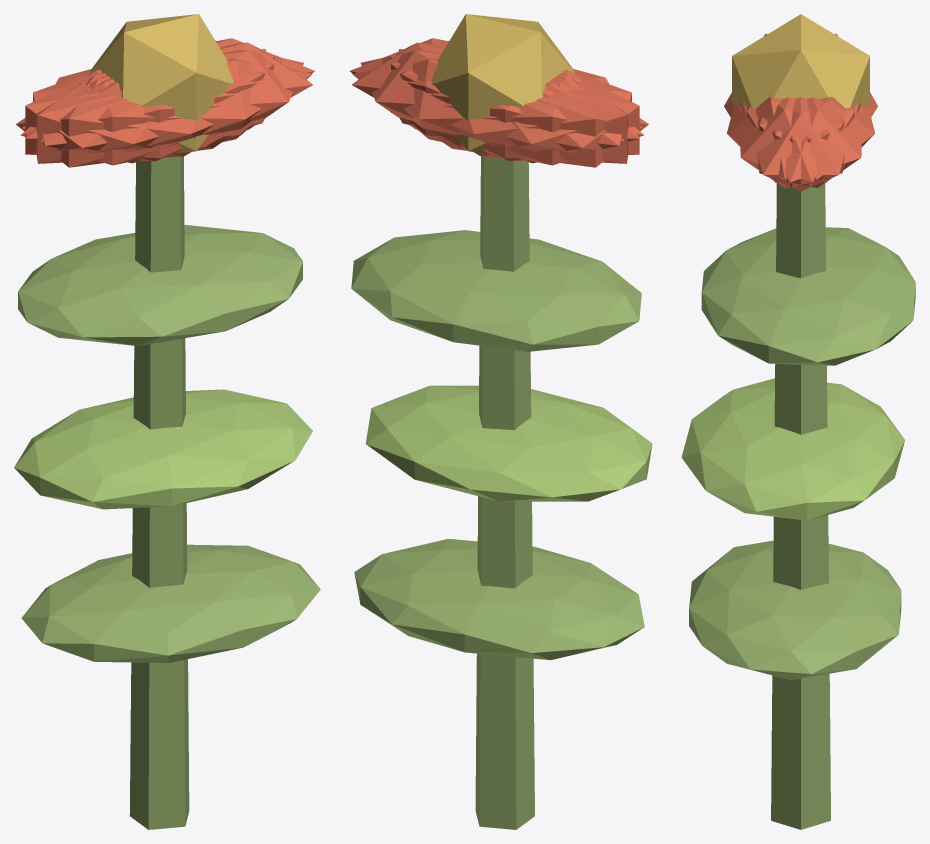
The model's file is clerodendrum-quadriloculare.glb.
3 views of the same model, side by side, from view 1: azimuth 30°, elevation 25°; view 2: azimuth 150°, elevation 25°; view 3: azimuth 270°, elevation 25° (orthographic).
Visible parts, largest first — view 1: leaf1, leaf0, leaf2, stem, center, petal1, petal6, petal2, petal5, petal7, petal0, petal4 (+2 smaller); view 2: leaf2, stem, leaf1, leaf0, center, petal8, petal3, petal7, petal4, petal2, petal0, petal5 (+2 smaller); view 3: leaf2, leaf1, leaf0, stem, center, petal0, petal5, petal4, petal8, petal1.
Part boxes in pixels (x1,y1,x2,y2): leaf1: (14,389,312,509); leaf0: (21,544,320,662); leaf2: (18,224,302,345); stem: (129,156,189,829); center: (89,14,233,153); petal1: (20,58,312,165); petal6: (16,71,227,167); petal2: (36,49,266,163); petal5: (40,50,303,158); petal7: (25,55,274,161); petal0: (89,42,312,147); petal4: (22,38,314,138); leaf2: (351,230,641,351); stem: (475,156,534,829); leaf1: (365,385,652,501); leaf0: (354,539,644,660); center: (431,14,575,153); petal8: (352,58,643,165); petal3: (437,71,648,167); petal7: (398,49,628,163); petal4: (360,50,624,158); petal2: (390,55,639,161); petal0: (351,42,575,147); petal5: (350,38,642,138); leaf2: (701,227,915,365); leaf1: (681,378,904,520); leaf0: (689,540,901,679); stem: (771,183,830,829); center: (732,14,869,108); petal0: (741,97,860,191); petal5: (740,97,854,187); petal4: (747,97,861,187); petal8: (757,97,875,179); petal1: (727,97,844,179).
Bounding box in the file's own units: 0.1452 × 0.3837 × 0.1037.
